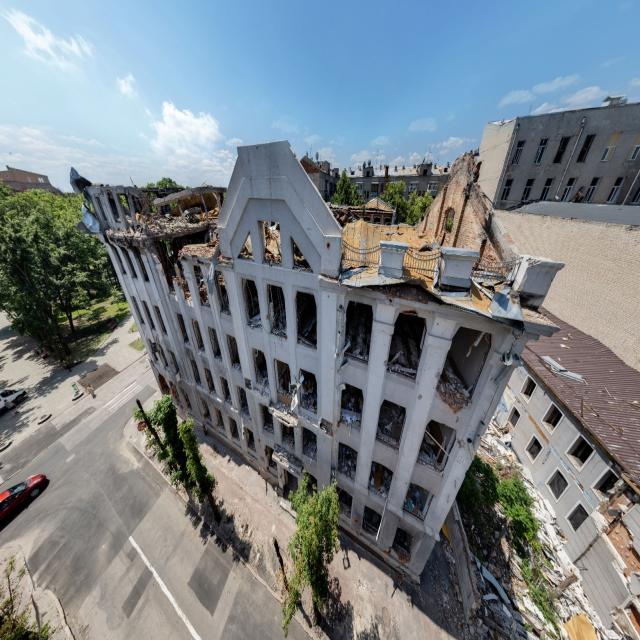broken_window: (295, 289, 317, 350), (565, 433, 594, 471), (546, 468, 570, 503), (566, 502, 588, 534)
building: (70, 138, 564, 593), (476, 93, 639, 213)
